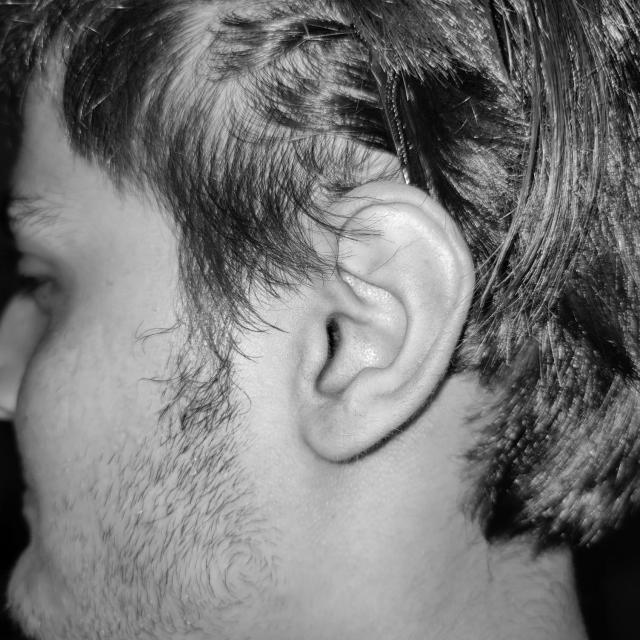ear: (302, 183, 474, 460), (314, 305, 315, 306)
